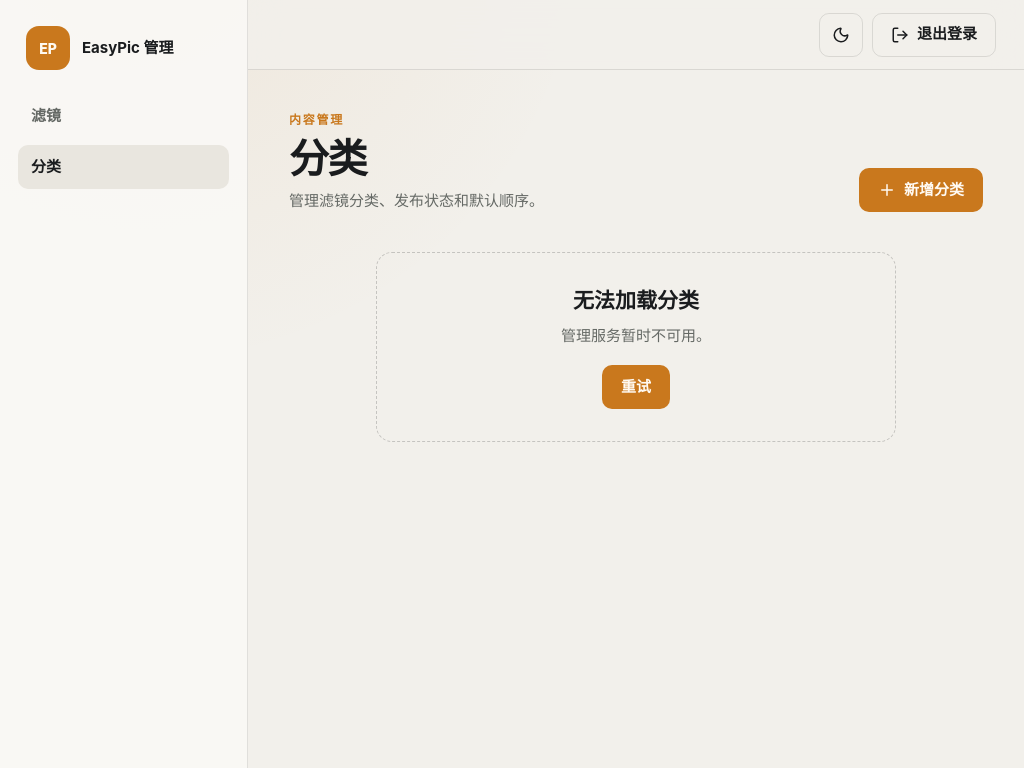
category page states › retries one transient failure, exposes an error action, then recovers to the empty state
Check: the heading "无法加载分类" is shown, box [573, 288, 699, 314]
Step 1. Click the button "重试" → click(636, 388), box [602, 366, 670, 410]
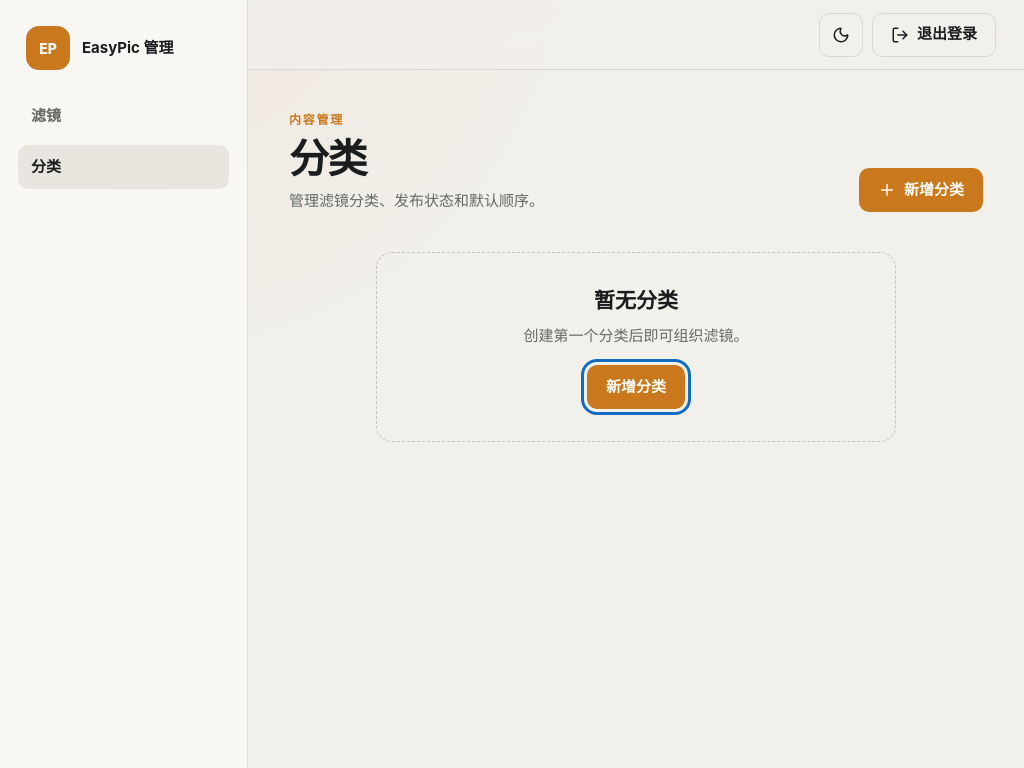
Check: the heading "暂无分类" is shown, box [594, 288, 678, 314]
